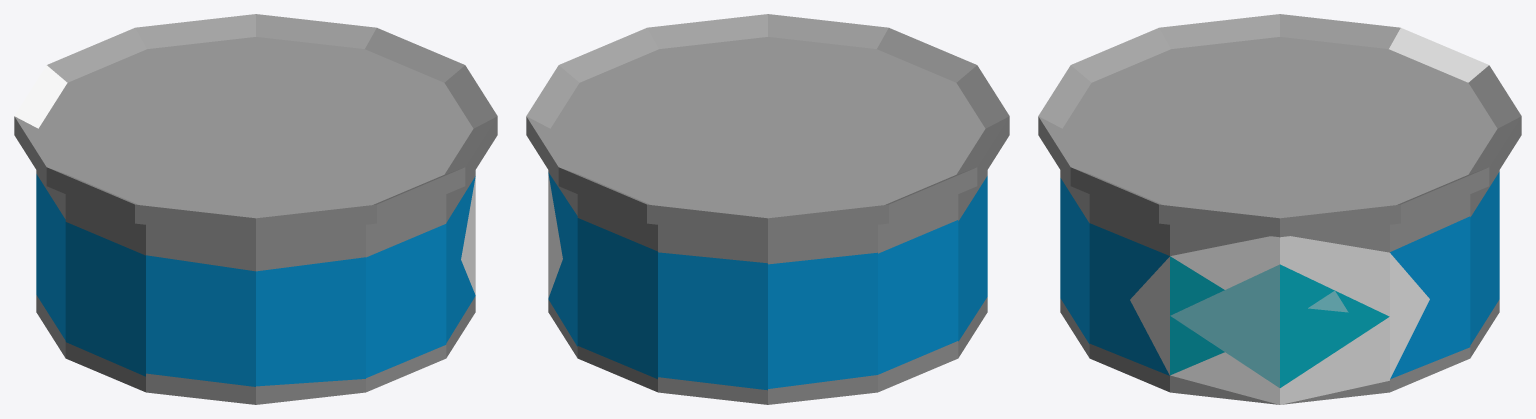
The model's file is Tuna.glb.
3 renders of one model, left to right at view 1: azimuth 30°, elevation 25°; view 2: azimuth 150°, elevation 25°; view 3: azimuth 270°, elevation 25°, orthographic.
Parts seen in each view (by area): view 1: group1343031588; view 2: group1343031588; view 3: group1343031588.
Boxes of the visible parts, x1=… form: group1343031588: x1=14, y1=14, x2=497, y2=404; group1343031588: x1=526, y1=14, x2=1009, y2=404; group1343031588: x1=1038, y1=14, x2=1521, y2=404.
Size of the model in its own units: 0.693 by 0.31 by 0.693.
